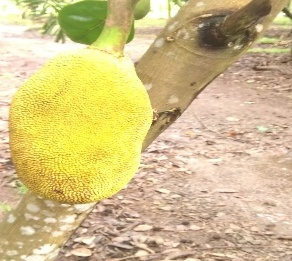Mit: (9, 48, 155, 206)
